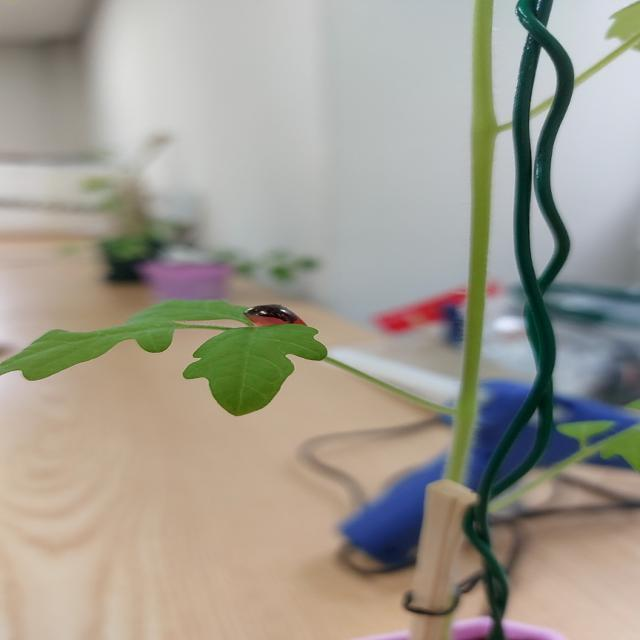bug: (230, 295, 318, 337)
